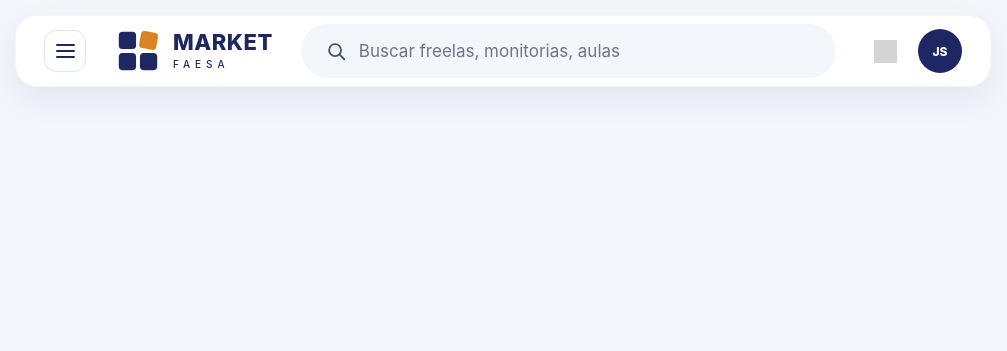
Scenario: notificações do cabeçalho › abre e fecha o painel demonstrativo sem exibir notificações fictícias
Click the button named "Notificações".
click(885, 51)  # box [864,30,906,72]
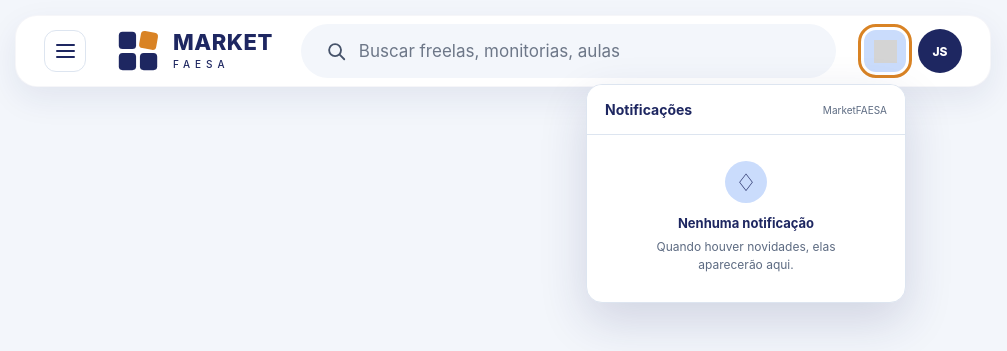
Now the button named "Notificações" is expanded
Now the text "Nenhuma notificação" is shown, box [678,215,814,231]
Now the text "Quando houver novidades, elas aparecerão aqui." is shown, box [656,239,836,272]
Click the button named "Notificações".
click(885, 51)  # box [864,30,906,72]
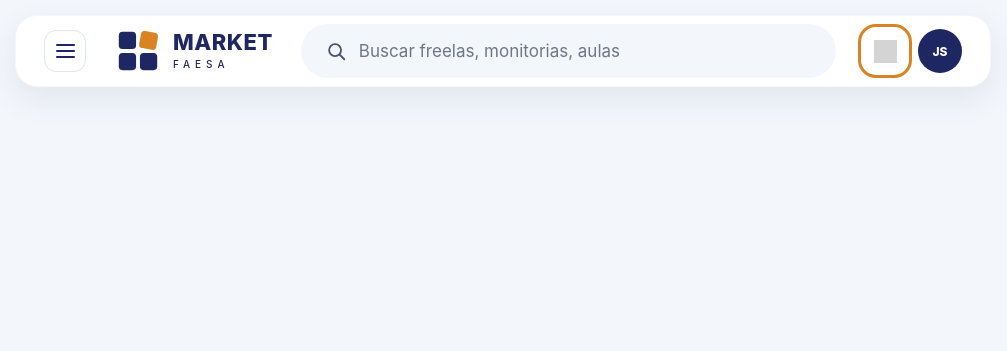
Now the button named "Notificações" is collapsed, box [864,30,906,72]
